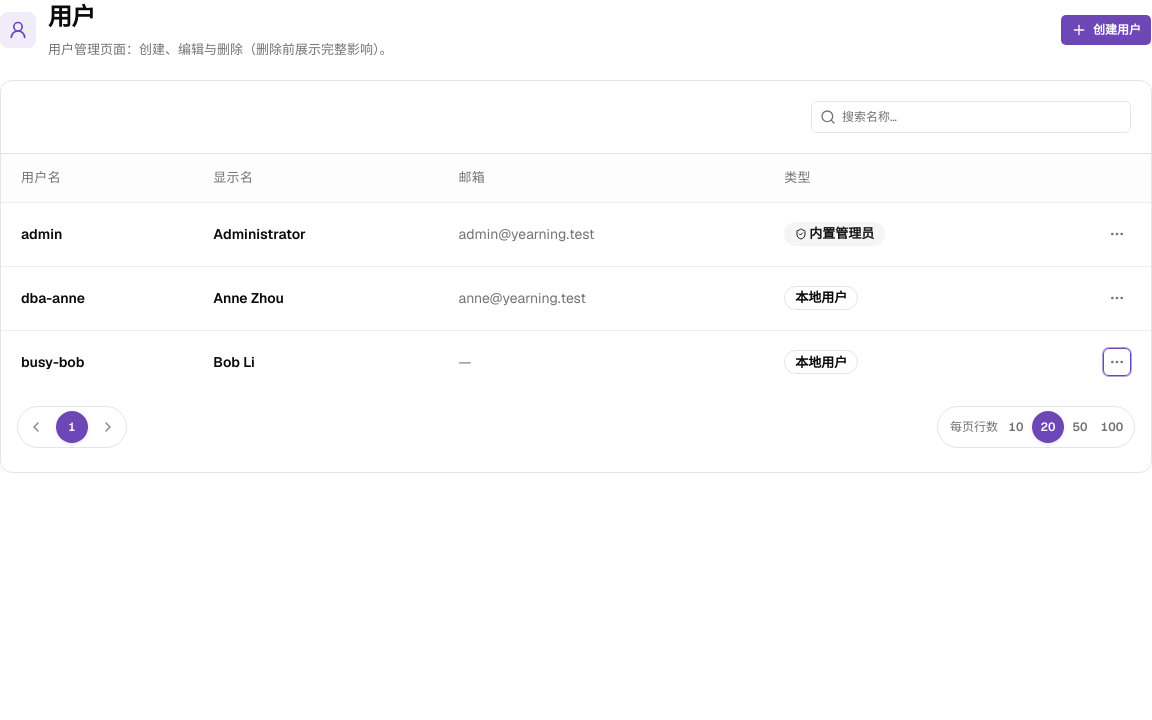
Test: gate: 用户删除影响预览（P105） › shows the deletion impact with blockers and disables the confirm button
Expected: the table with test id "admin-users-table" is shown, left=1, top=154, right=1151, bottom=394
Press Enter
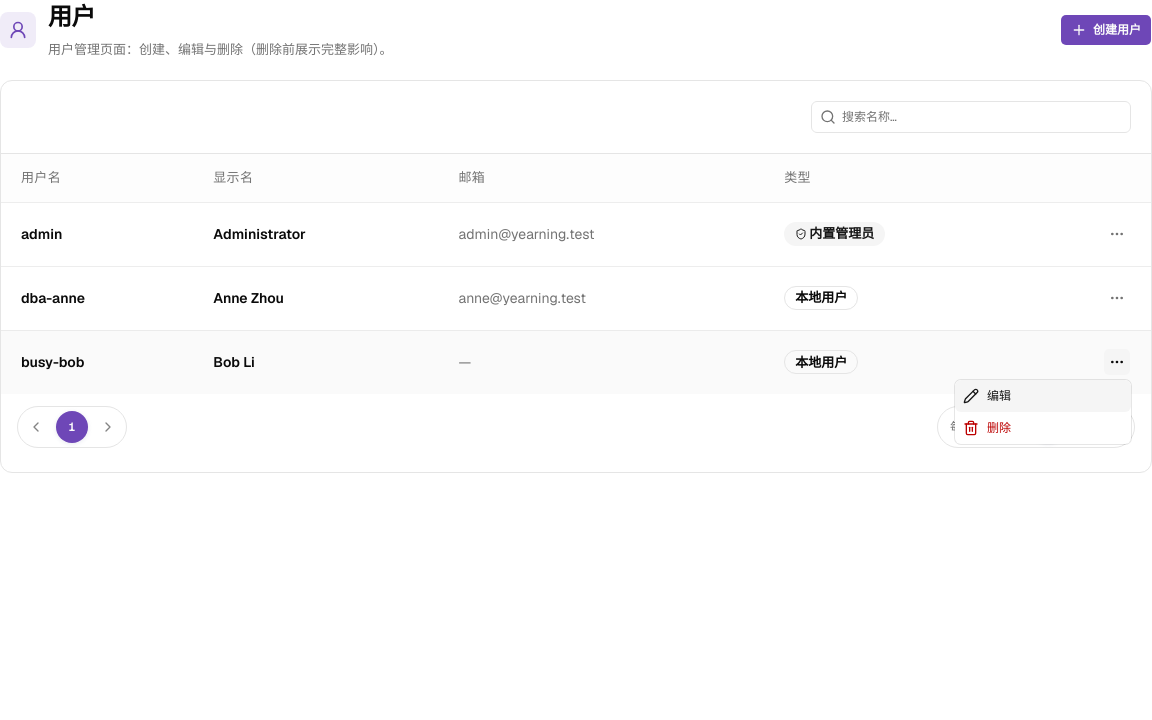
Click the menu item "删除" at (987, 428), box left=963, top=420, right=1011, bottom=436
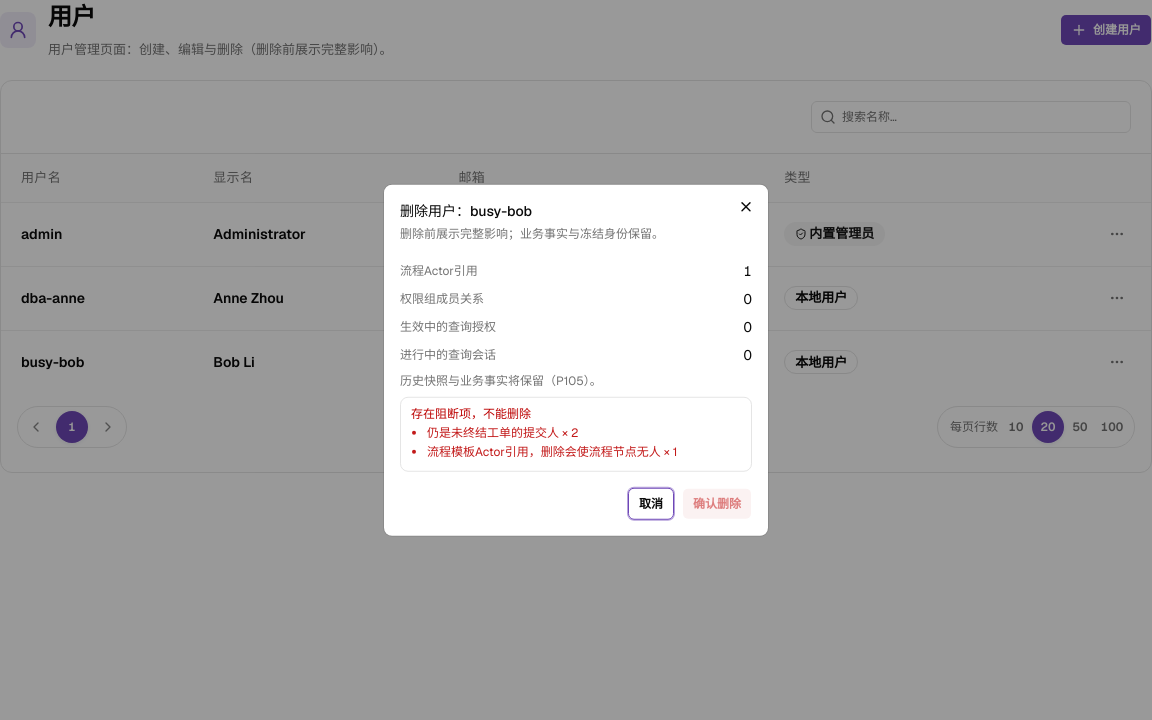
Expected: the element with test id "admin-user-delete-impact" shows "仍是未终结工单的提交人", left=427, top=424, right=559, bottom=440
Expected: the element with test id "admin-user-delete-impact" shows "流程模板Actor引用", left=427, top=444, right=661, bottom=460
Expected: the button with test id "admin-user-delete-confirm" is disabled, left=682, top=487, right=752, bottom=519
